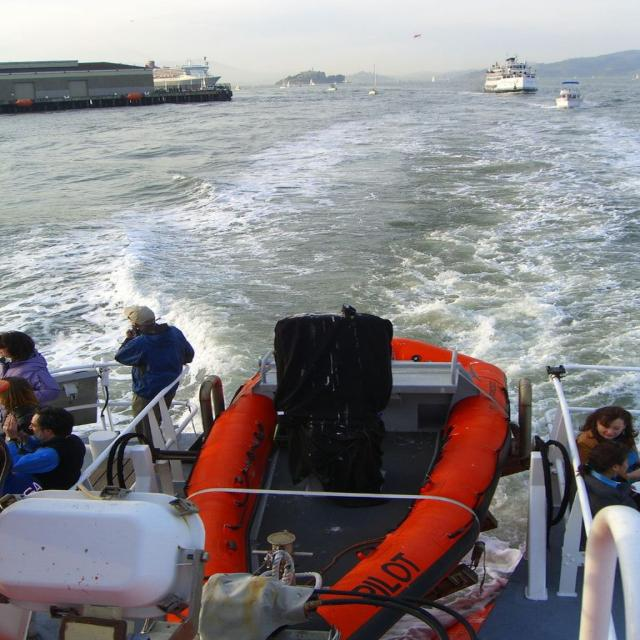Boat: (0, 306, 639, 639), (478, 51, 540, 93), (550, 81, 587, 108), (364, 86, 382, 100), (328, 80, 339, 91), (276, 87, 288, 91)
